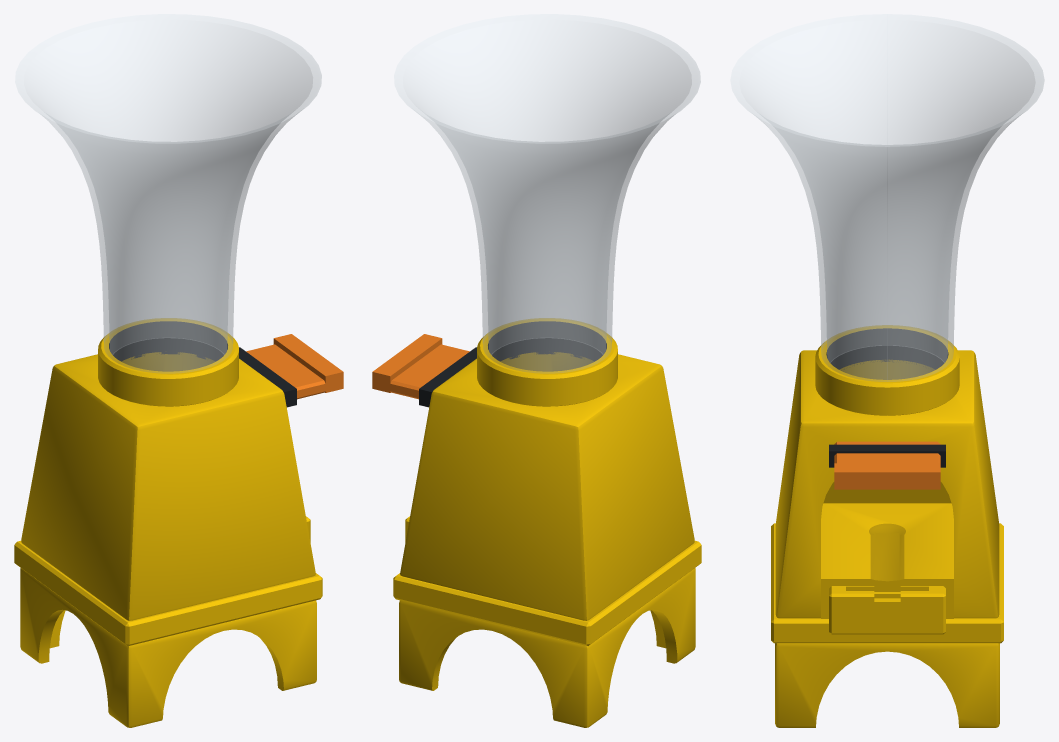
3 renders of one model, left to right at view 1: azimuth 30°, elevation 25°; view 2: azimuth 150°, elevation 25°; view 3: azimuth 270°, elevation 25°, orthographic. The views are drawn at different scales.
Parts seen in each view (by area): view 1: M-14; view 2: M-14; view 3: M-14.
Boxes of the visible parts, bbox=[...] form: M-14: bbox=[14, 14, 343, 727]; M-14: bbox=[372, 14, 701, 727]; M-14: bbox=[730, 14, 1044, 727].
Bounding box in the file's own units: 0.0627 × 0.125 × 0.0592.
